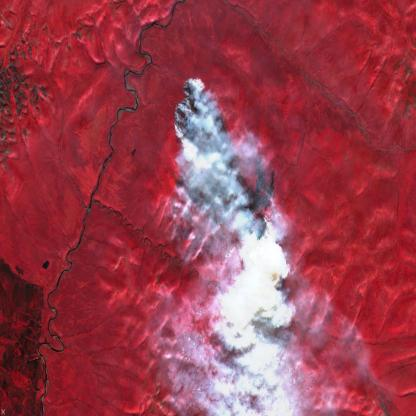fire: (172, 71, 276, 255)
